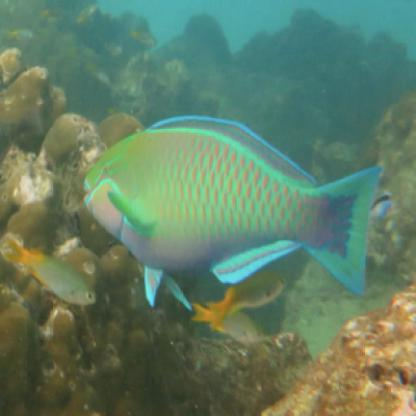Scaridae -Parrotfishes-: (79, 106, 384, 313)
